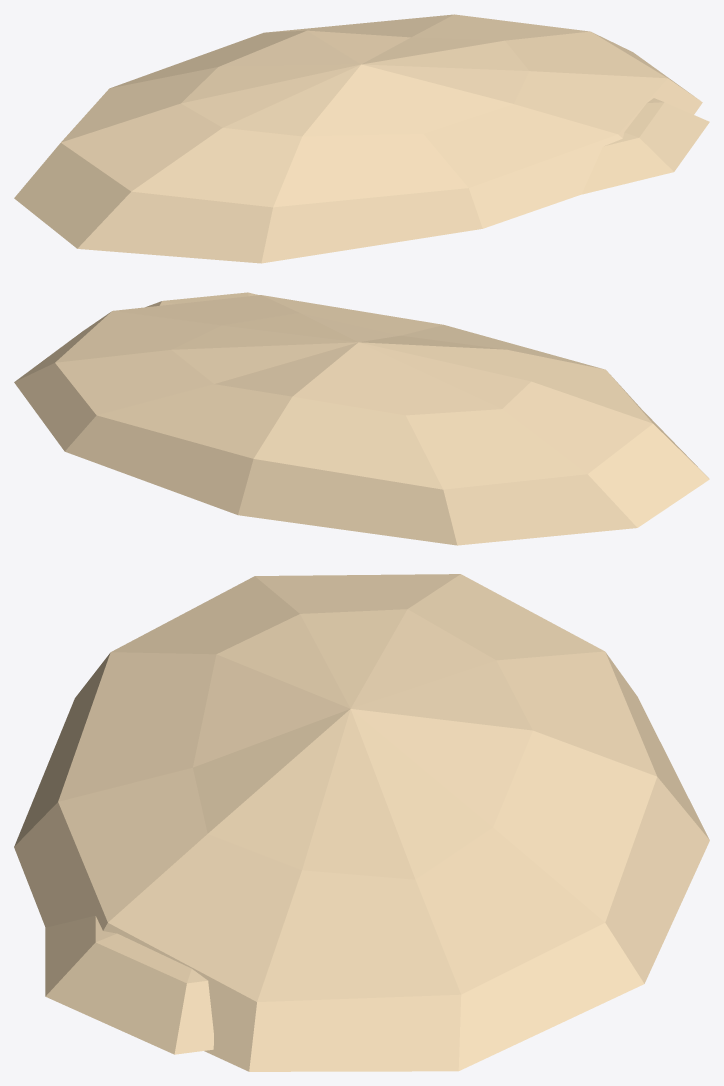
The model's file is dune.glb.
3 views of the same model, one above another, from view 1: azimuth 30°, elevation 25°; view 2: azimuth 150°, elevation 25°; view 3: azimuth 270°, elevation 25° (orthographic). The views are drawn at different scales.
Parts seen in each view (by area): view 1: DuneMain, DuneSmall; view 2: DuneMain, DuneSmall; view 3: DuneMain, DuneSmall.
Boxes of the visible parts, x1,y1,x2,y2 form: DuneMain: (14,14,702,263); DuneSmall: (581,98,709,194); DuneMain: (14,295,709,545); DuneSmall: (145,292,258,307); DuneMain: (14,574,709,1071); DuneSmall: (45,915,213,1054).
Bounding box in the file's own units: 0.9329 × 0.1265 × 0.5924.
